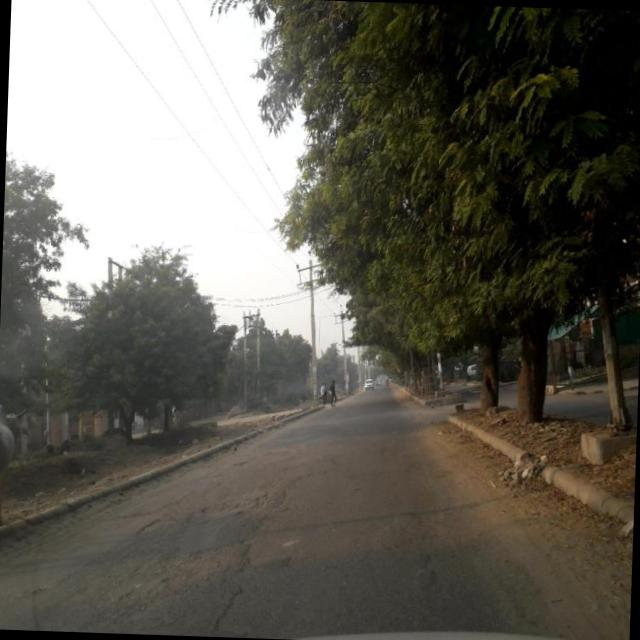crack: (188, 573, 253, 637)
pothole: (189, 486, 266, 536), (132, 506, 184, 554)
